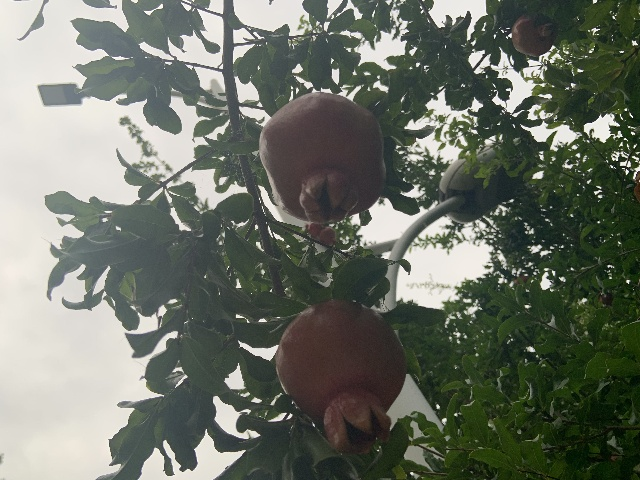ripe: (275, 299, 406, 454), (258, 91, 385, 224), (511, 13, 557, 56), (319, 226, 337, 245), (303, 222, 322, 236)
